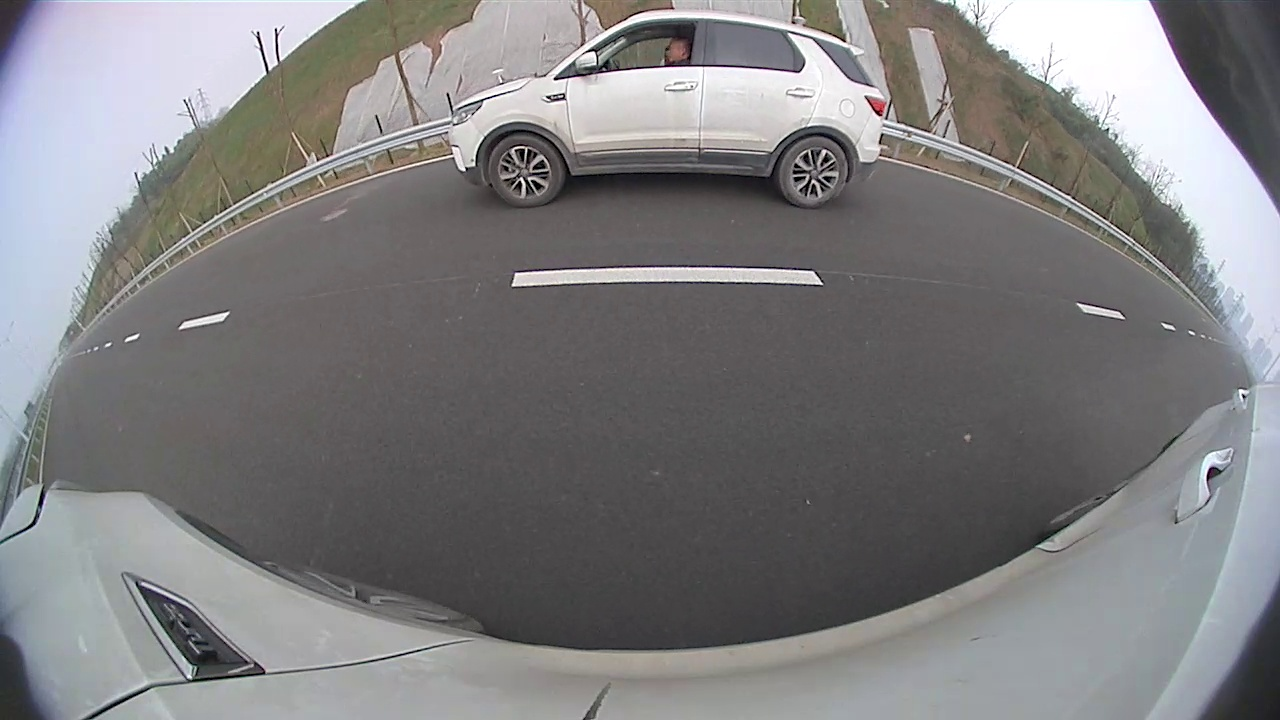car: (448, 11, 886, 208)
front: (486, 133, 566, 208)
rear: (778, 134, 850, 209)
